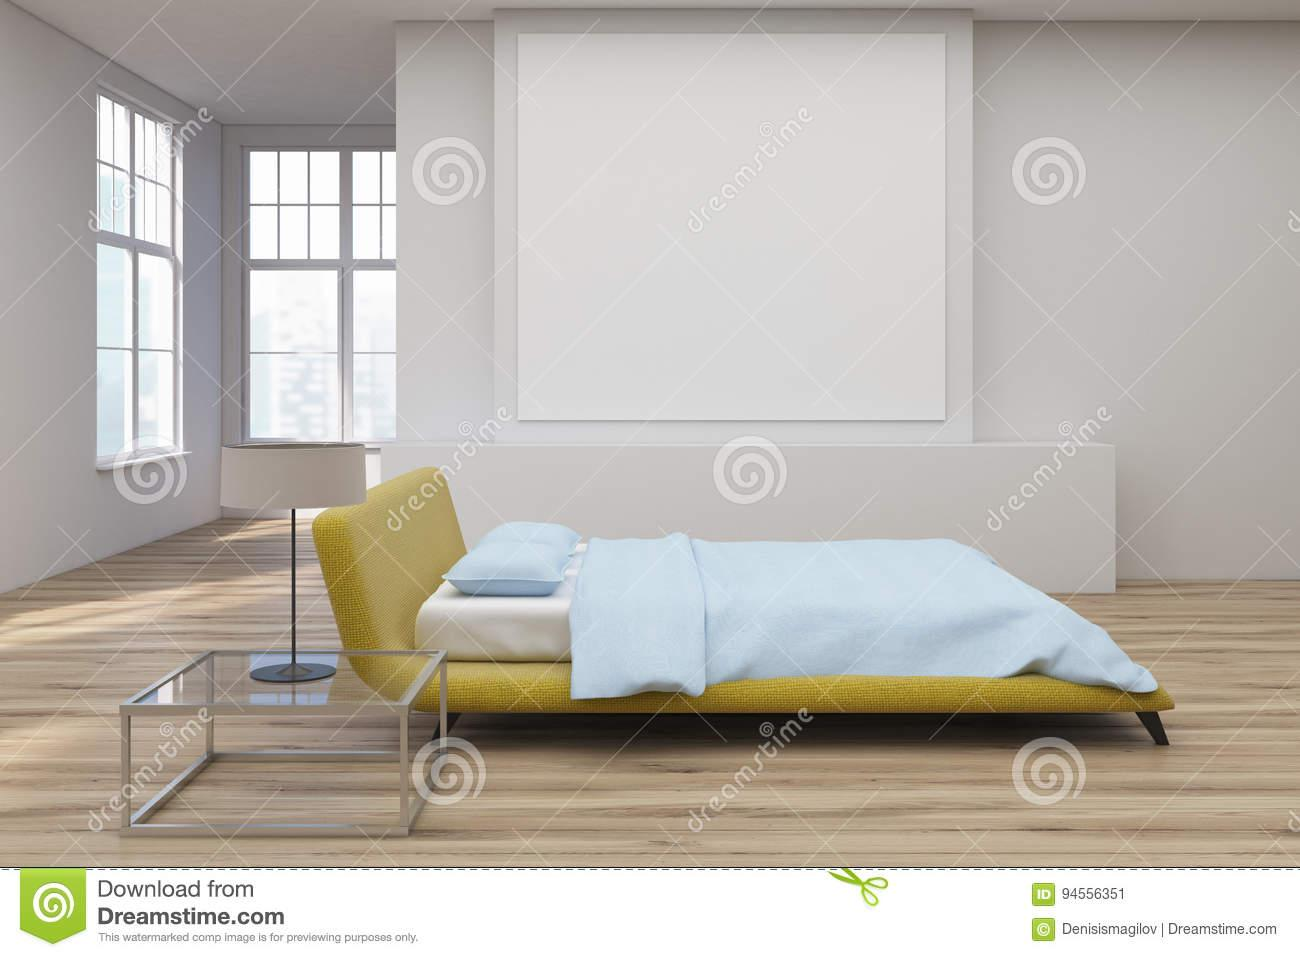bed: (270, 418, 1082, 724)
